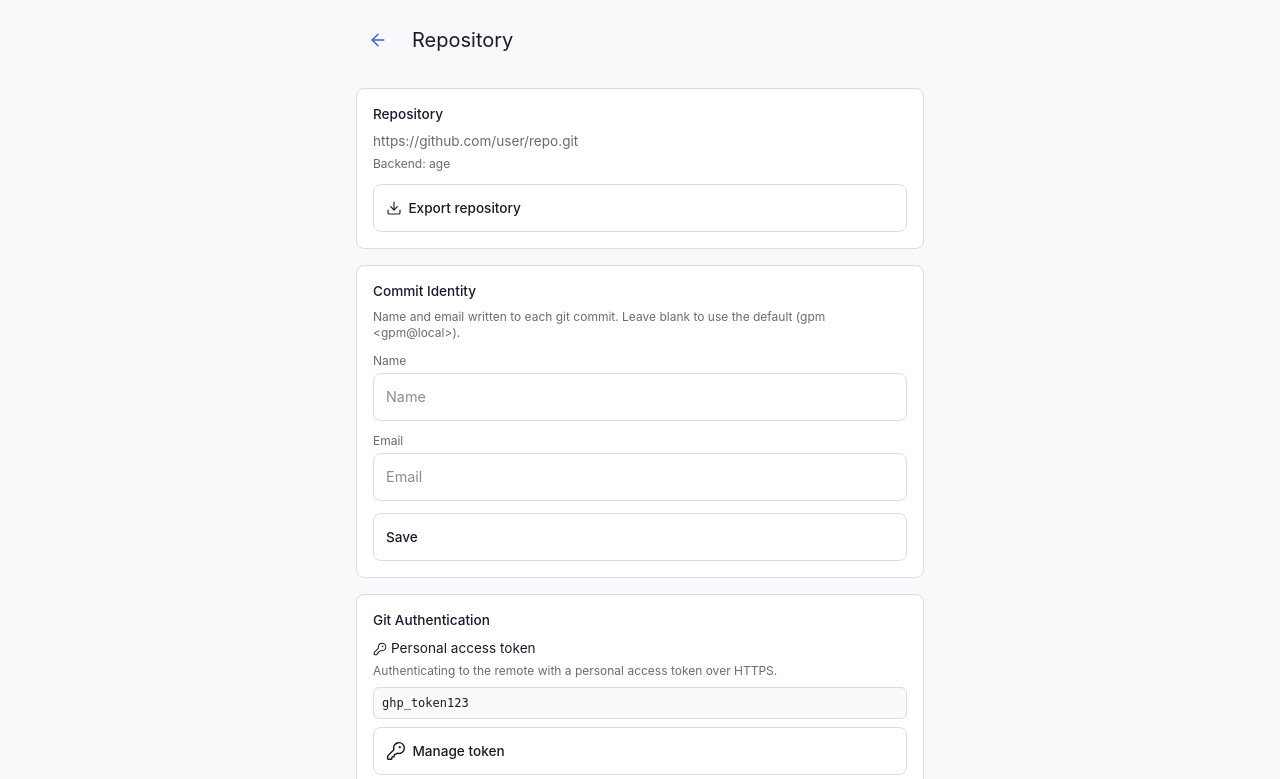
Test: SettingsRepositoryPage › leave guard › save failure keeps the user on the page
Type "Alice" into the field with id "commit-name" at (640, 397), box [373,373,907,421]
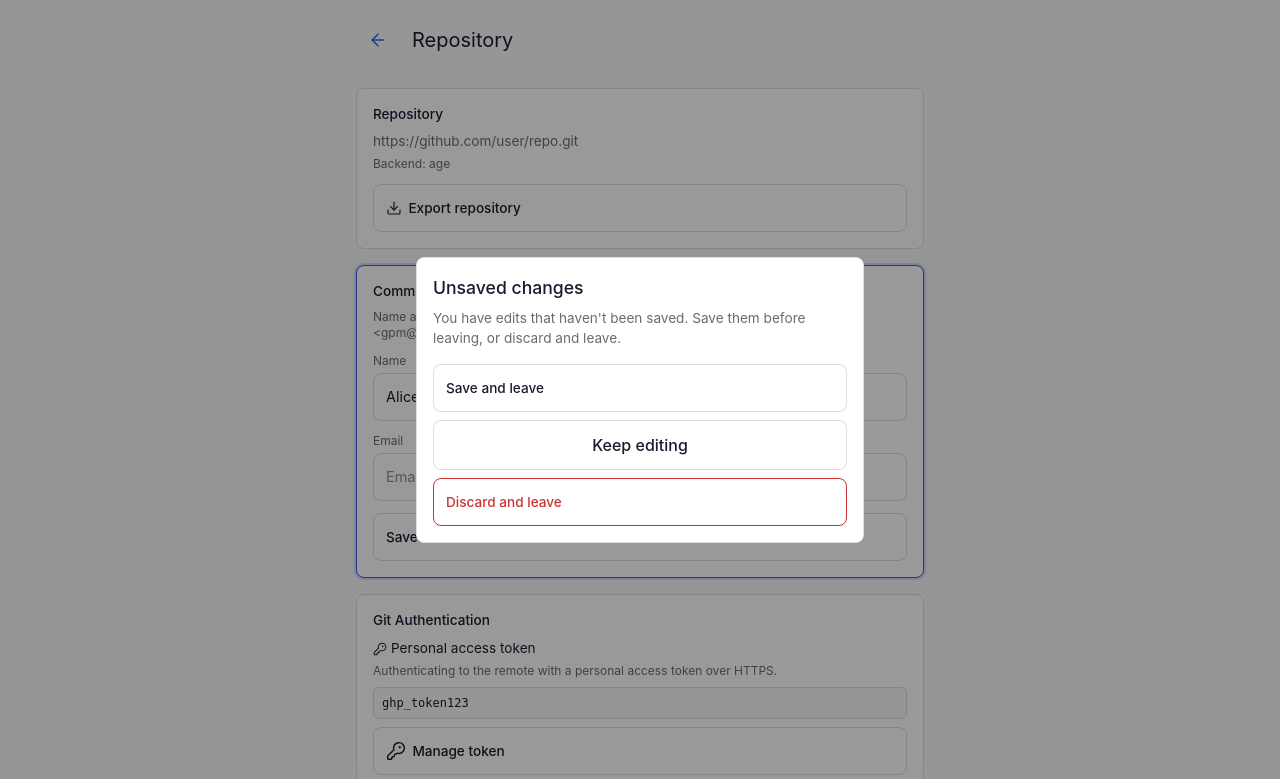
Click the button "Save and leave" at (495, 388), box [433,364,847,412]
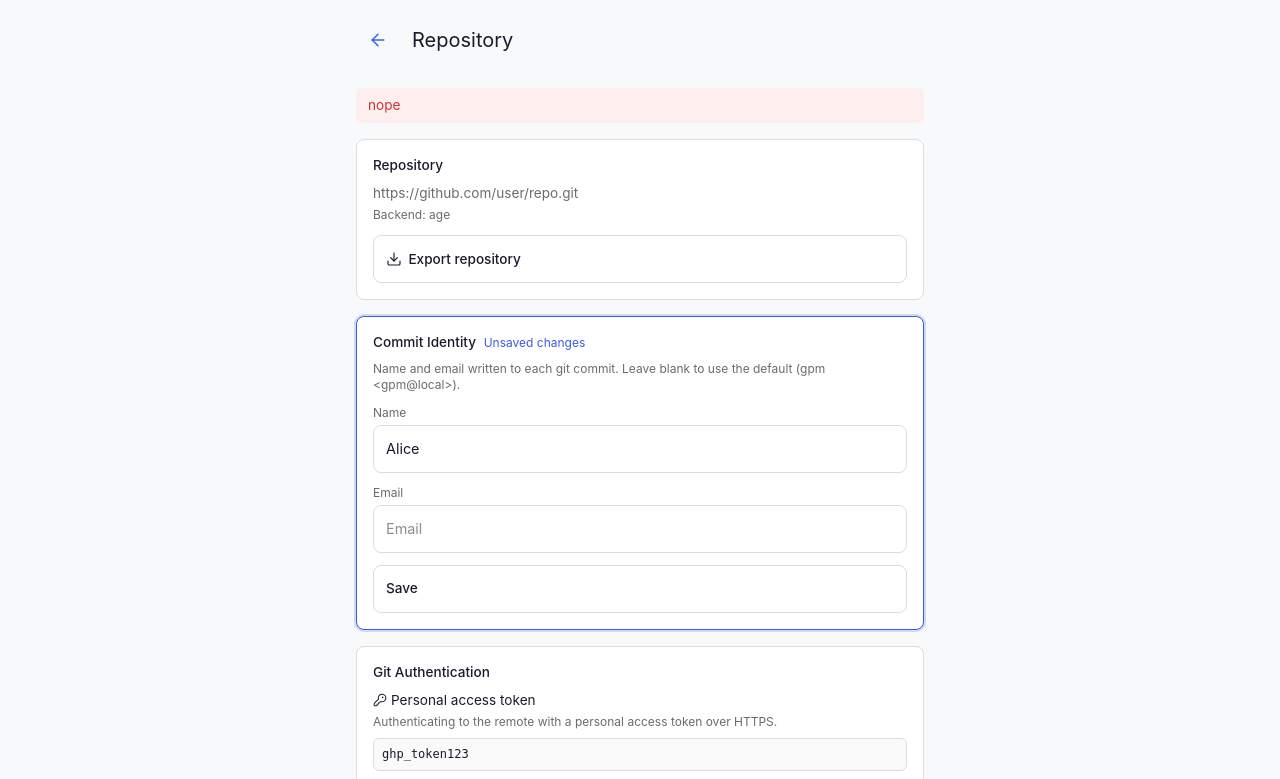
Now the message "nope" is shown, box [356,88,924,123]
